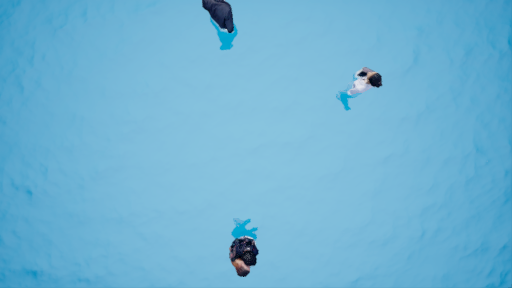person: (334, 59, 384, 113), (223, 217, 264, 279), (200, 1, 242, 56)
